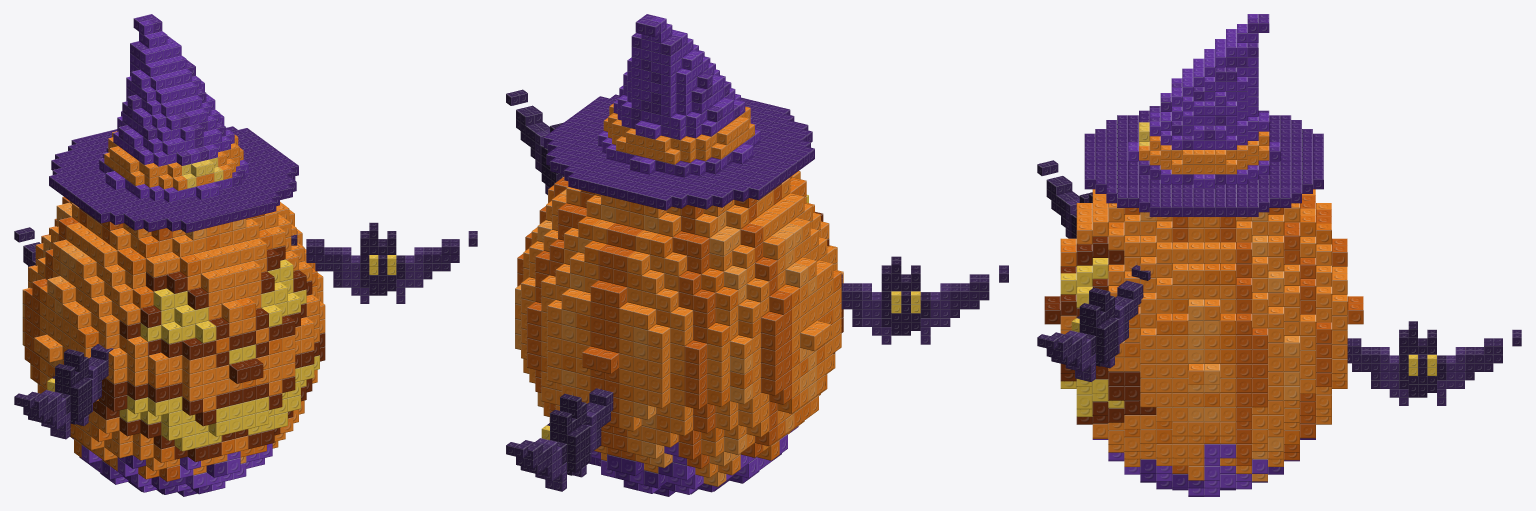
Rendered from Egg_Halloween.glb.
The picture shows the model from 3 angles, left to right: view 1: azimuth 30°, elevation 25°; view 2: azimuth 150°, elevation 25°; view 3: azimuth 270°, elevation 25°; orthographic projection. The views are drawn at different scales.
Parts seen in each view (by area): view 1: Body, Hat, Bats, Body_Glow; view 2: Body, Hat, Bats; view 3: Body, Hat, Bats, Body_Glow.
Part boxes in pixels (<box>): Body: <box>22,196,325,496</box>; Hat: <box>49,14,298,233</box>; Bats: <box>14,222,477,439</box>; Body_Glow: <box>119,259,319,451</box>; Body: <box>515,171,843,496</box>; Hat: <box>543,14,814,210</box>; Bats: <box>506,89,1008,491</box>; Body: <box>1044,189,1363,496</box>; Hat: <box>1084,14,1323,216</box>; Bats: <box>1037,160,1521,405</box>; Body_Glow: <box>1060,258,1124,416</box>.
Size of the model in its own units: 4.63 by 4.18 by 4.01.
Materials: 1 (1 with a texture image).
